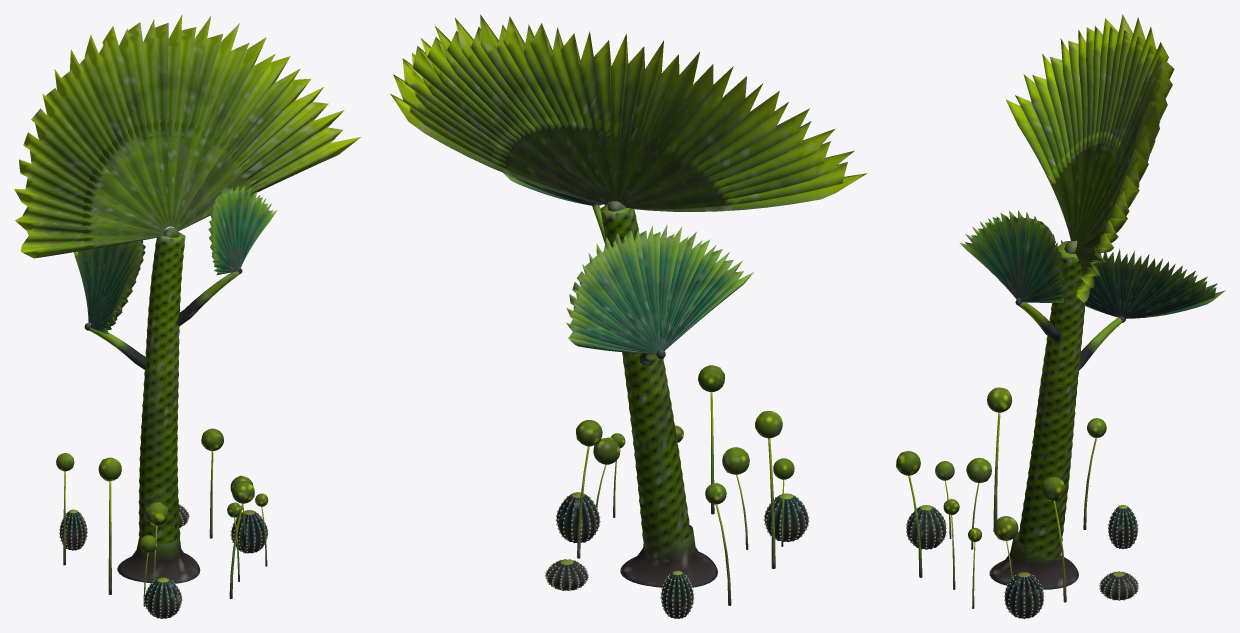
File: agac_yelpaze.glb
3 views of the same model, side by side, from view 1: azimuth 30°, elevation 25°; view 2: azimuth 150°, elevation 25°; view 3: azimuth 270°, elevation 25° (orthographic). The views are drawn at different scales.
Visible parts, largest first — view 1: agac_yelpaze_LOD0; view 2: agac_yelpaze_LOD0; view 3: agac_yelpaze_LOD0.
Boxes of the visible parts, x1,y1,x2,y2 form: agac_yelpaze_LOD0: (14,14,360,618); agac_yelpaze_LOD0: (390,14,866,618); agac_yelpaze_LOD0: (896,14,1225,618).
Size of what is drawn, in the model's own units: 11.01 by 14.19 by 7.81.
